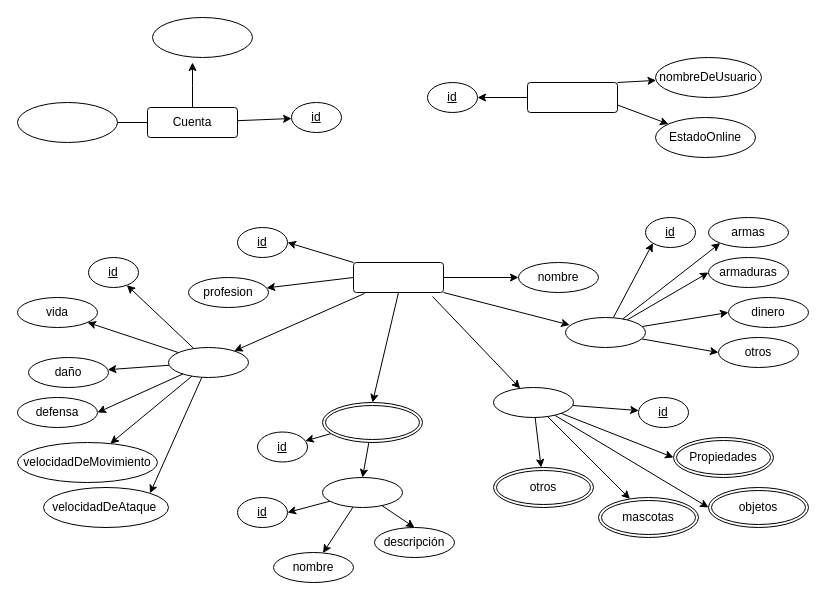
The diagram is 826 pixels wide and 600 high, and some of its shapes have lost their labels. The centre of each missing label's shape, as x and y in pixels:
"adquisiciones" belongs at (533,402).
"Email" belongs at (202,37).
"estadisticas" belongs at (208,362).
"fecha de registro" belongs at (67,122).
"habilidad" belongs at (362,492).
"habilidades" belongs at (372,422).
"inventario" belongs at (605,332).
"Personaje" belongs at (398,277).
"Usuario" belongs at (572,97).
